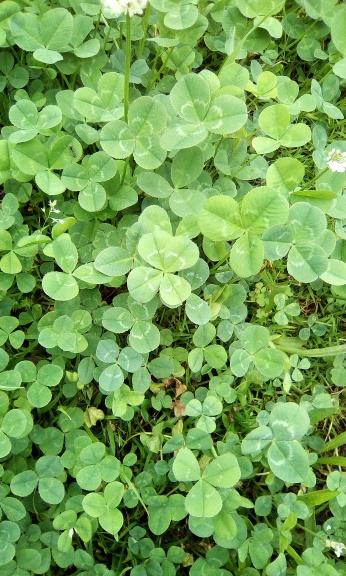4leaf: (126, 230, 199, 306)
